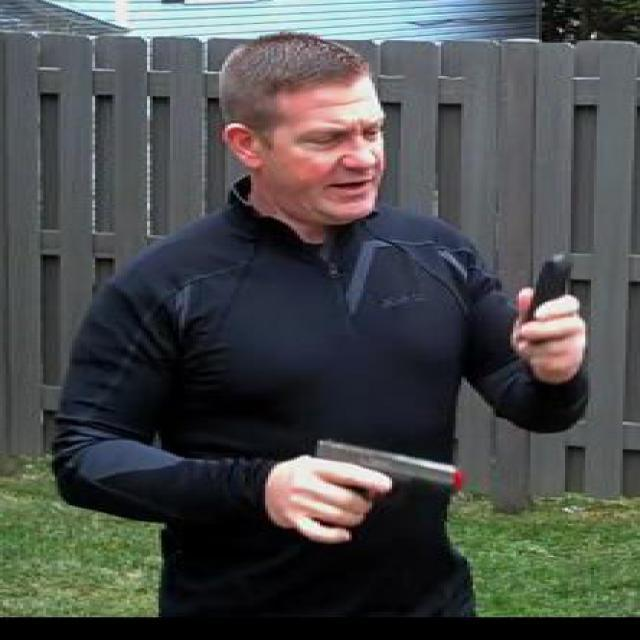gun: (303, 436, 462, 542)
